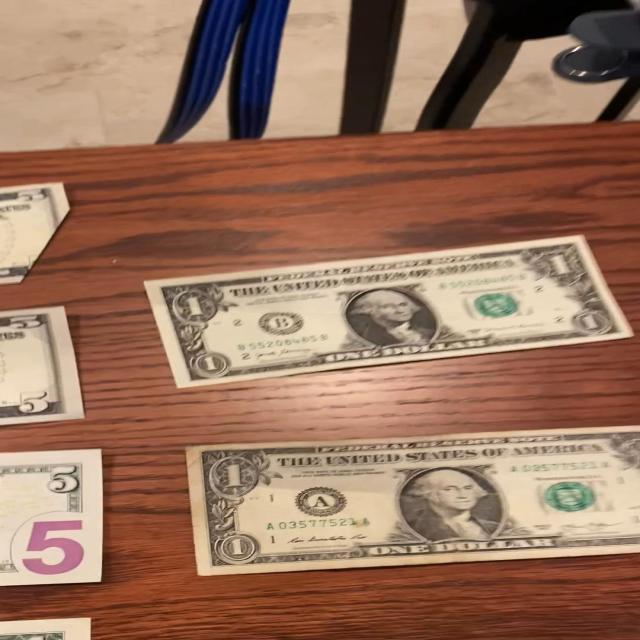1-Front: (143, 230, 639, 394), (178, 422, 640, 588)
5-Back: (0, 440, 105, 599)
5-Front: (0, 296, 95, 418), (0, 162, 88, 279)
